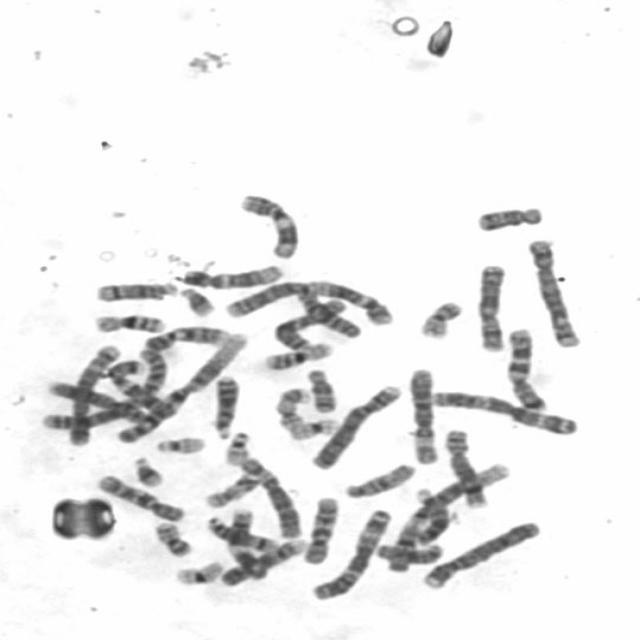A1: (110, 325, 253, 446), (379, 456, 514, 573)
A2: (32, 346, 169, 434), (217, 274, 399, 327)
A3: (306, 503, 396, 602), (424, 384, 583, 436)
B4: (416, 514, 545, 591), (305, 378, 406, 471)
B5: (522, 233, 586, 349), (60, 339, 124, 447)
C10: (90, 469, 190, 524), (297, 490, 342, 566)
C11: (233, 187, 304, 260), (220, 502, 270, 582)
C12: (296, 284, 370, 342), (175, 258, 288, 289)
C6: (233, 451, 305, 540), (404, 362, 443, 465)
C7: (99, 353, 179, 416), (500, 322, 552, 412)
C8: (42, 373, 154, 425), (438, 422, 491, 509)
C9: (215, 533, 312, 587), (138, 320, 234, 353)
D13: (408, 483, 452, 545), (208, 370, 243, 440)
D14: (202, 511, 282, 553), (89, 274, 183, 304)
D15: (338, 458, 421, 500), (370, 536, 448, 566)
E16: (258, 336, 338, 372), (88, 307, 170, 335)
E17: (198, 467, 265, 509), (270, 382, 314, 434)
E18: (470, 199, 548, 233), (300, 363, 342, 413)
F19: (168, 555, 226, 586), (285, 412, 342, 442)
F20: (413, 294, 468, 340), (147, 516, 196, 558)
G21: (174, 280, 218, 318), (127, 450, 169, 489)
G22: (218, 426, 256, 466), (150, 431, 210, 455)
X: (268, 292, 350, 352), (470, 258, 511, 354)
